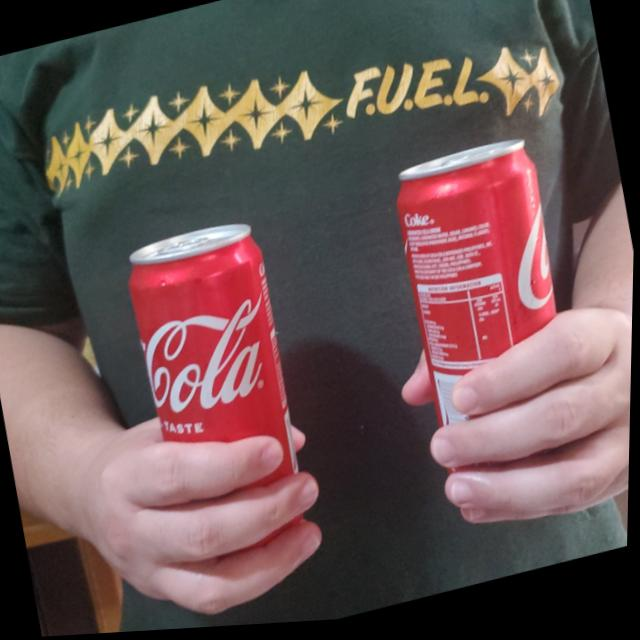coke: (390, 140, 591, 454), (117, 217, 308, 527)
